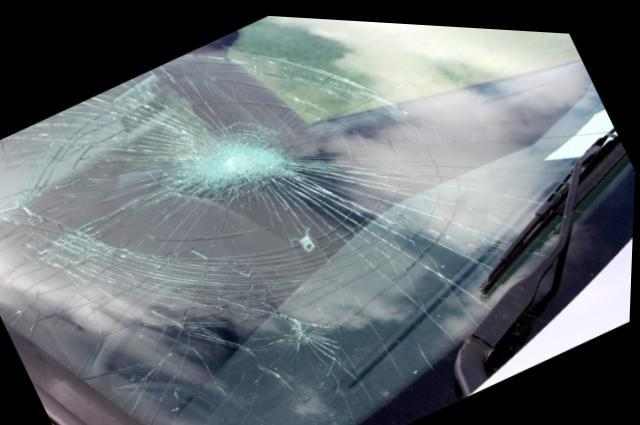glass shatter: (0, 12, 636, 425)
